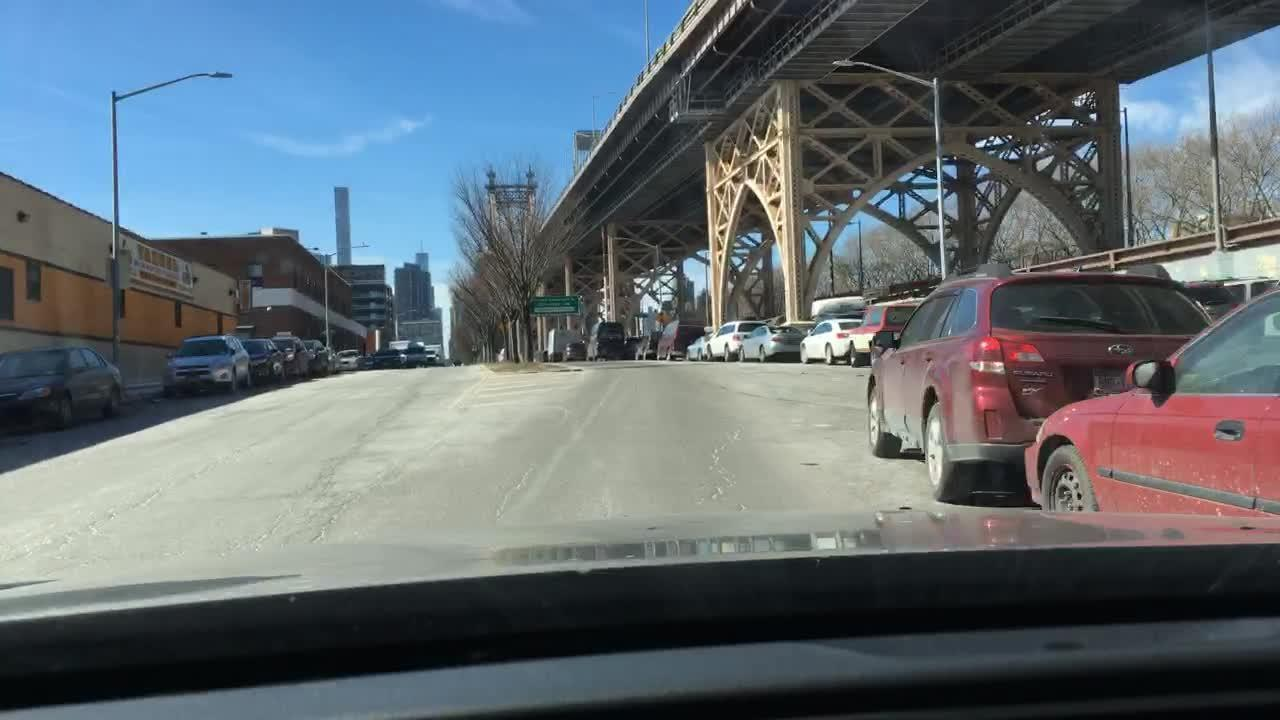subaru: (1105, 342, 1136, 360)
